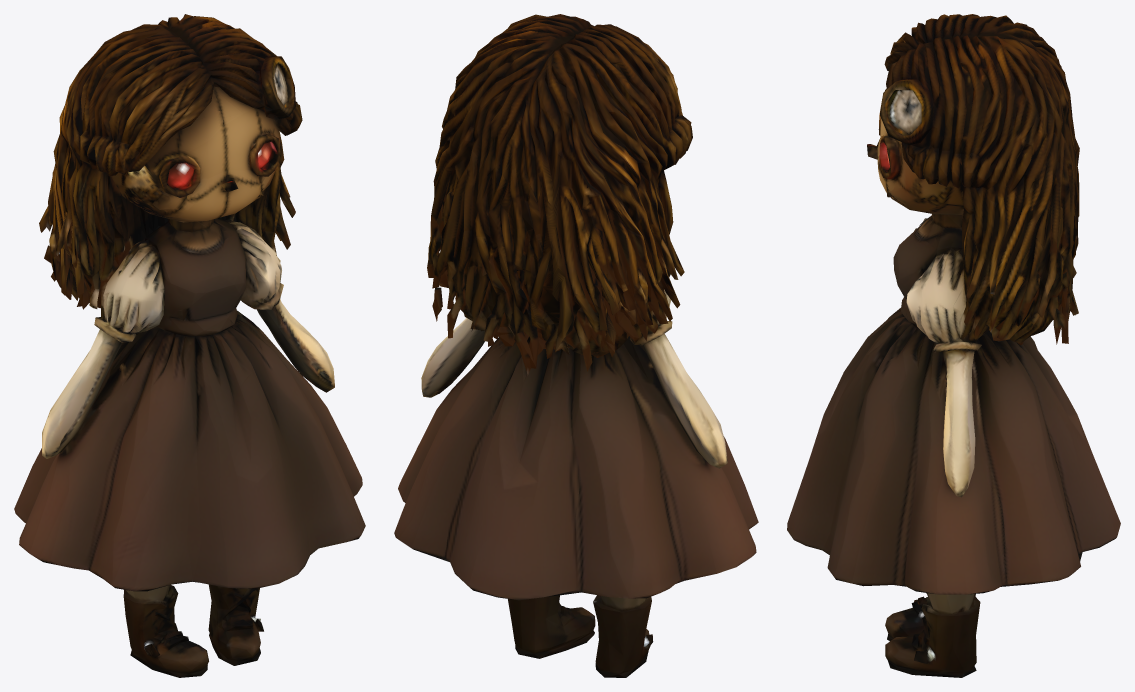
The model's file is Doll.fbx.
3 renders of one model, left to right at view 1: azimuth 30°, elevation 25°; view 2: azimuth 150°, elevation 25°; view 3: azimuth 270°, elevation 25°, orthographic. The views are drawn at different scales.
Parts seen in each view (by area): view 1: model; view 2: model; view 3: model.
Part boxes in pixels (<box>): model: <box>14,14,365,677</box>; model: <box>394,14,758,677</box>; model: <box>787,14,1120,677</box>.
Size of the model in its own units: 99.12 by 176 by 85.72.
